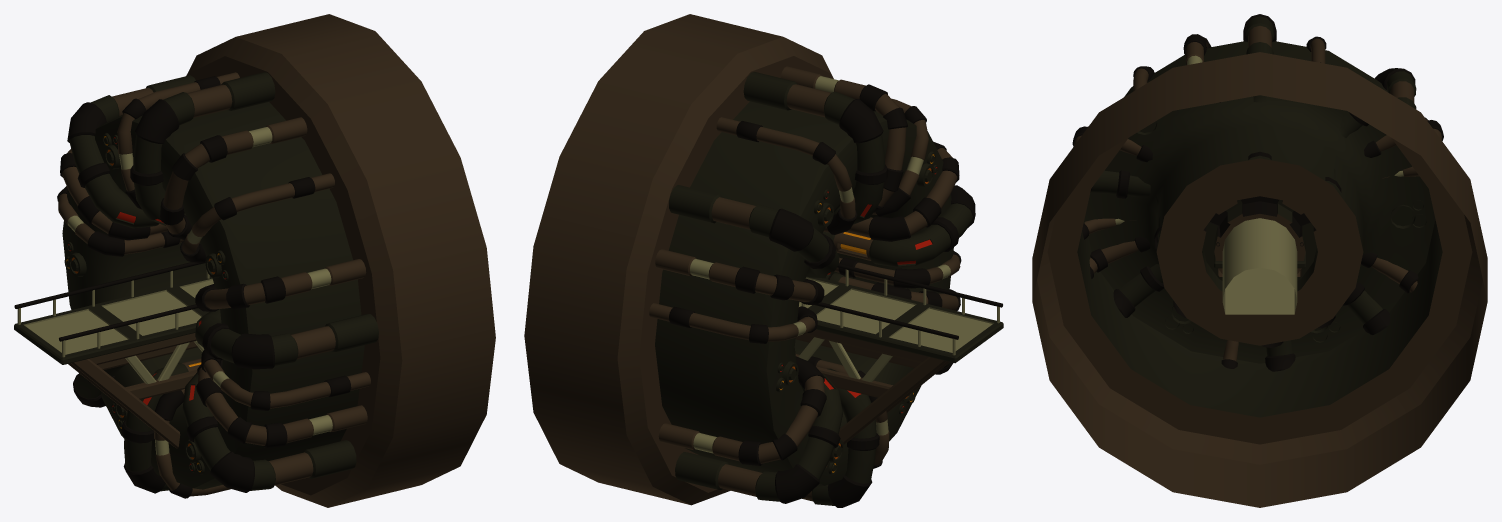
File: OBJ_Entree_generateur.fbx
3 renders of one model, left to right at view 1: azimuth 30°, elevation 25°; view 2: azimuth 150°, elevation 25°; view 3: azimuth 270°, elevation 25°, orthographic. The views are drawn at different scales.
Parts seen in each view (by area): view 1: metal_2, metal_3, metal_4, metal_1; view 2: metal_2, metal_3, metal_4, metal_1; view 3: metal_2, metal_3, metal_1, metal_4.
Part boxes in pixels (left/top/right/bottom): metal_2: left=58, top=14, right=495, bottom=507; metal_3: left=14, top=72, right=378, bottom=491; metal_4: left=14, top=76, right=351, bottom=498; metal_1: left=17, top=127, right=332, bottom=455; metal_2: left=524, top=14, right=960, bottom=505; metal_3: left=655, top=72, right=1003, bottom=505; metal_4: left=669, top=84, right=1002, bottom=507; metal_1: left=690, top=76, right=999, bottom=453; metal_2: left=1032, top=26, right=1487, bottom=507; metal_3: left=1077, top=16, right=1442, bottom=417; metal_1: left=1115, top=55, right=1403, bottom=314; metal_4: left=1072, top=14, right=1443, bottom=371.
Size of the model in its own units: 2600 by 3213 by 3213.
